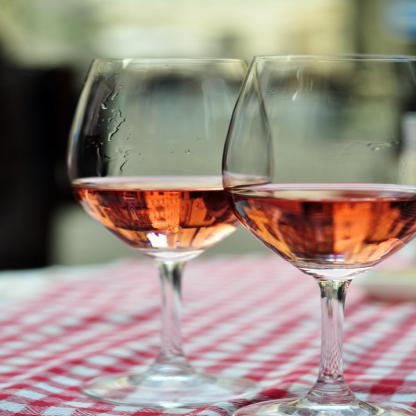drinking: (66, 58, 272, 408), (222, 55, 415, 415)
